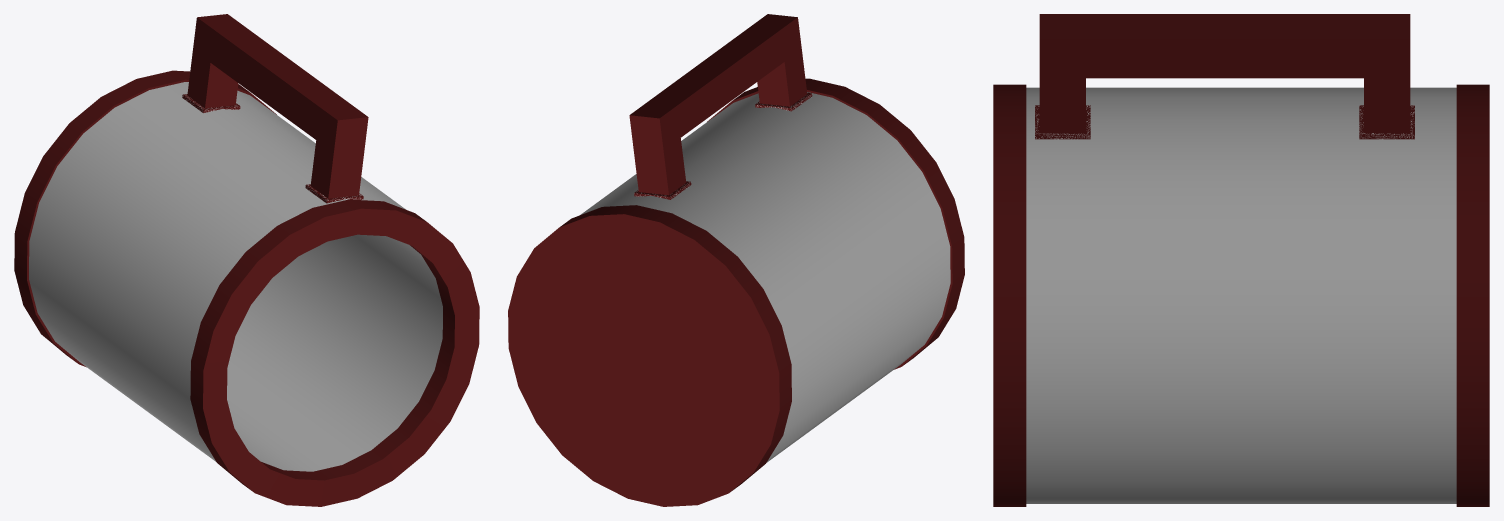
The model's file is model_scale.obj.
3 views of the same model, side by side, from view 1: azimuth 30°, elevation 25°; view 2: azimuth 150°, elevation 25°; view 3: azimuth 270°, elevation 25° (orthographic). The views are drawn at different scales.
Parts seen in each view (by area): view 1: mesh9_mesh9-geometry, mesh4_mesh4-geometry, mesh1_mesh1-geometry, mesh10_mesh10-geometry; view 2: mesh10_mesh10-geometry, mesh9_mesh9-geometry, mesh1_mesh1-geometry, mesh4_mesh4-geometry; view 3: mesh9_mesh9-geometry, mesh1_mesh1-geometry, mesh4_mesh4-geometry, mesh10_mesh10-geometry.
Part boxes in pixels (bbox=[...]): mesh9_mesh9-geometry: bbox=[29, 82, 442, 471]; mesh4_mesh4-geometry: bbox=[190, 199, 479, 506]; mesh1_mesh1-geometry: bbox=[182, 14, 368, 203]; mesh10_mesh10-geometry: bbox=[14, 70, 276, 367]; mesh10_mesh10-geometry: bbox=[508, 205, 791, 506]; mesh9_mesh9-geometry: bbox=[580, 92, 950, 462]; mesh1_mesh1-geometry: bbox=[629, 14, 812, 199]; mesh4_mesh4-geometry: bbox=[707, 78, 964, 369]; mesh9_mesh9-geometry: bbox=[1026, 87, 1456, 503]; mesh1_mesh1-geometry: bbox=[1035, 14, 1414, 139]; mesh4_mesh4-geometry: bbox=[993, 84, 1026, 506]; mesh10_mesh10-geometry: bbox=[1456, 84, 1489, 506].
Size of the model in its own units: 0.0929 by 0.1174 by 0.1097.
